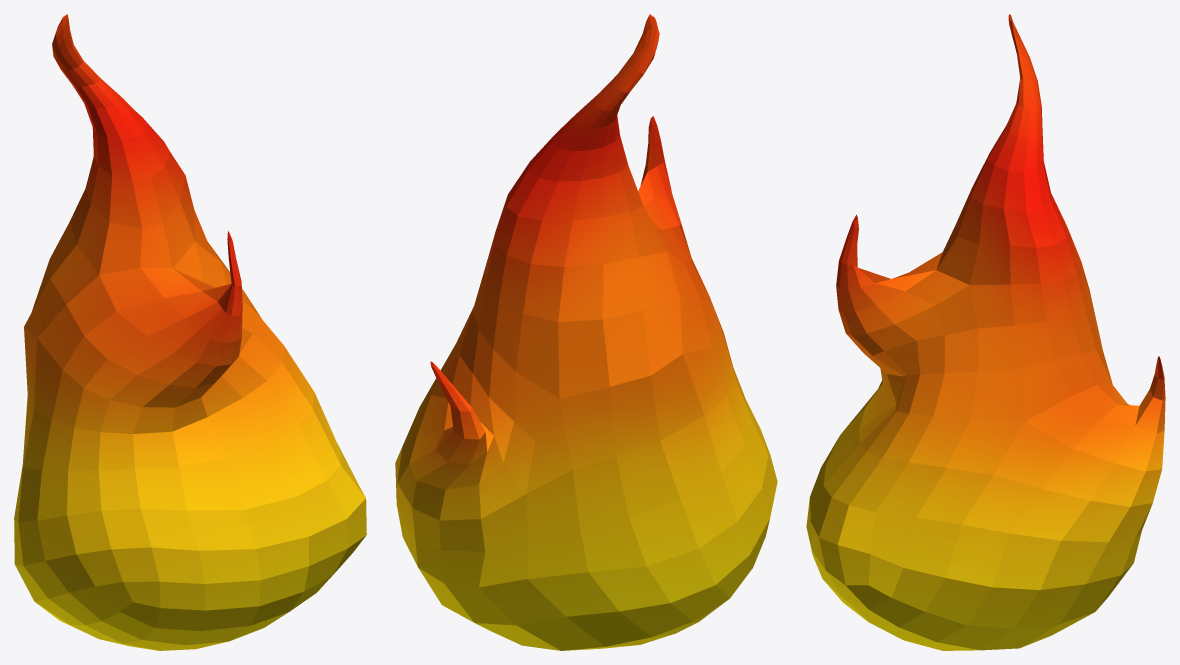
Rendered from fuego.obj.
3 views of the same model, side by side, from view 1: azimuth 30°, elevation 25°; view 2: azimuth 150°, elevation 25°; view 3: azimuth 270°, elevation 25° (orthographic). The views are drawn at different scales.
Visible parts, largest first — view 1: fire3:Group20972.001; view 2: fire3:Group20972.001; view 3: fire3:Group20972.001.
Boxes of the visible parts, x1=… form: fire3:Group20972.001: x1=14, y1=14, x2=366, y2=650; fire3:Group20972.001: x1=395, y1=14, x2=777, y2=650; fire3:Group20972.001: x1=806, y1=14, x2=1165, y2=650.
Size of the model in its own units: 0.4622 by 0.8958 by 0.5009.
Materials: 1 (1 with a texture image).
